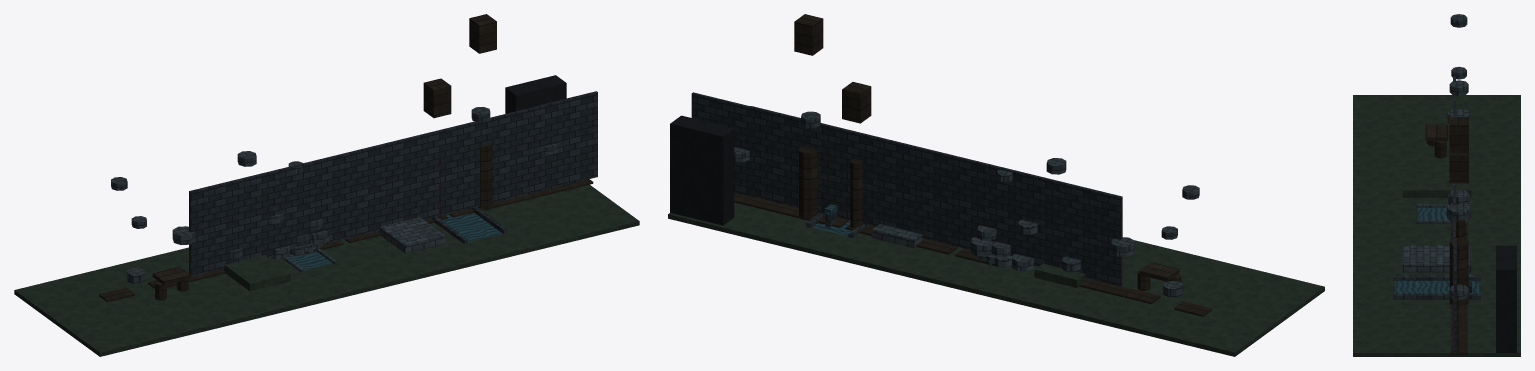
The model's file is forest.glb.
The picture shows the model from 3 angles, left to right: view 1: azimuth 30°, elevation 25°; view 2: azimuth 150°, elevation 25°; view 3: azimuth 270°, elevation 25°; orthographic projection. The views are drawn at different scales.
Visible parts, largest first — view 1: forest_stone_dark, forest_earth, forest_wood_dark, forest_stone, forest_void, forest_metal; view 2: forest_stone_dark, forest_earth, forest_wood_dark, forest_void, forest_stone; view 3: forest_earth, forest_wood_dark, forest_stone, forest_void, forest_stone_dark, forest_metal.
Boxes of the visible parts, x1,y1,x2,y2 form: forest_stone_dark: (189, 91, 597, 276); forest_earth: (14, 184, 639, 356); forest_wood_dark: (99, 14, 593, 302); forest_stone: (111, 107, 557, 283); forest_void: (505, 75, 566, 113); forest_metal: (287, 213, 502, 270); forest_stone_dark: (691, 92, 1122, 286); forest_earth: (668, 202, 1324, 356); forest_wood_dark: (734, 14, 1212, 316); forest_void: (670, 115, 734, 225); forest_stone: (734, 111, 1199, 297); forest_earth: (1353, 95, 1520, 356); forest_wood_dark: (1425, 117, 1468, 354); forest_stone: (1402, 14, 1471, 300); forest_void: (1496, 245, 1516, 352); forest_stone_dark: (1393, 76, 1480, 353); forest_metal: (1395, 207, 1478, 293).
Bounding box in the file's own units: 16.3 × 5.49 × 4.4.
Materials: 6 (6 with a texture image).
